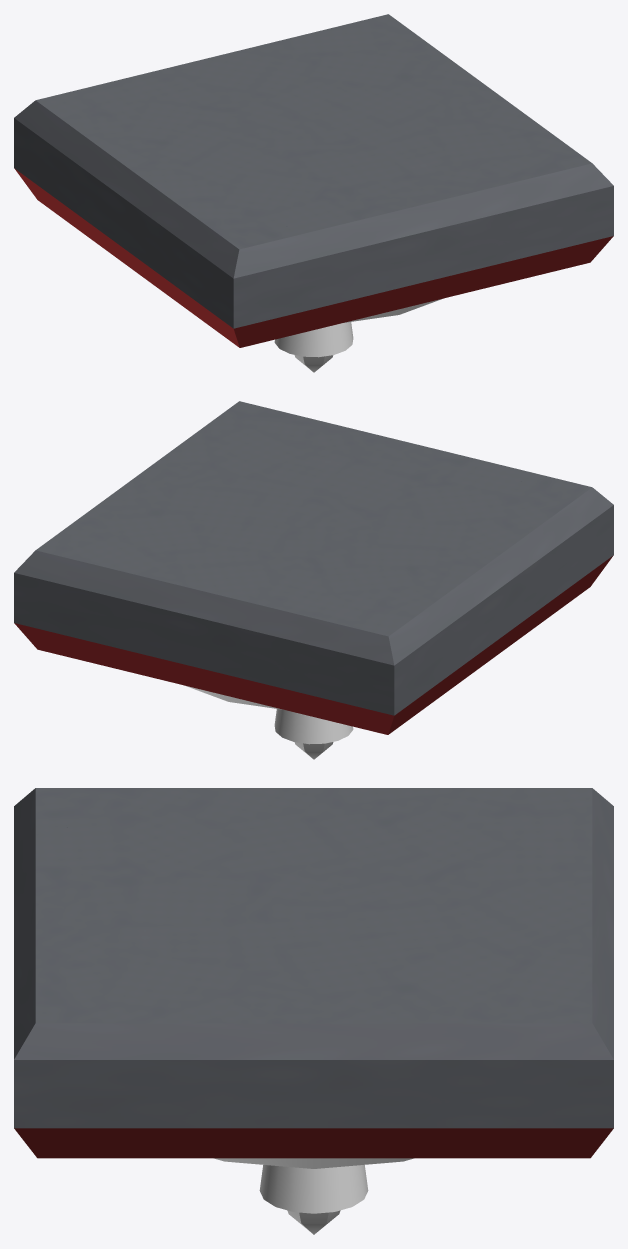
The model's file is asset_platform.fbx.
The picture shows the model from 3 angles, top to bottom: view 1: azimuth 30°, elevation 25°; view 2: azimuth 150°, elevation 25°; view 3: azimuth 270°, elevation 25°; orthographic projection. The views are drawn at different scales.
Visible parts, largest first — view 1: Cube.001, Booster.001; view 2: Cube.001, Booster.001; view 3: Cube.001, Booster.001.
Boxes of the visible parts, bbox=[...] form: Cube.001: bbox=[14, 14, 613, 347]; Booster.001: bbox=[274, 298, 442, 372]; Cube.001: bbox=[14, 401, 613, 734]; Booster.001: bbox=[185, 685, 353, 759]; Cube.001: bbox=[14, 788, 613, 1158]; Booster.001: bbox=[214, 1158, 413, 1234].
Size of the model in its own units: 200 by 121 by 200.
4 materials, 2 textured.
